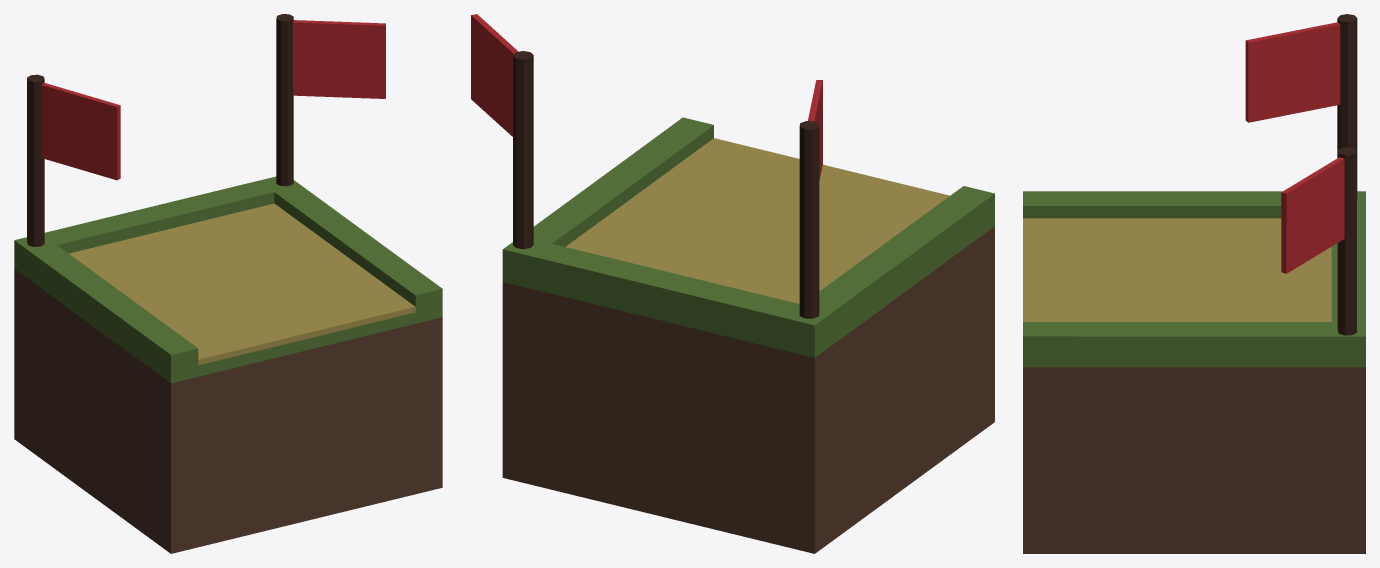
Rendered from Chemin_Debut.fbx.
3 renders of one model, left to right at view 1: azimuth 30°, elevation 25°; view 2: azimuth 150°, elevation 25°; view 3: azimuth 270°, elevation 25°, orthographic. The views are drawn at different scales.
Visible parts, largest first — view 1: Chemin_CulDeSac.001, Drapeau2, drapeau1; view 2: Chemin_CulDeSac.001, Drapeau2, drapeau1; view 3: Chemin_CulDeSac.001, drapeau1, Drapeau2.
Boxes of the visible parts, x1,y1,x2,y2 form: Chemin_CulDeSac.001: (14, 176, 442, 553); Drapeau2: (276, 14, 385, 186); drapeau1: (27, 74, 120, 246); Chemin_CulDeSac.001: (502, 117, 994, 553); Drapeau2: (471, 14, 533, 249); drapeau1: (799, 80, 822, 318); Chemin_CulDeSac.001: (1023, 191, 1365, 553); drapeau1: (1245, 14, 1357, 197); Drapeau2: (1281, 147, 1356, 335).
Size of the model in its own units: 618 by 640 by 500.
